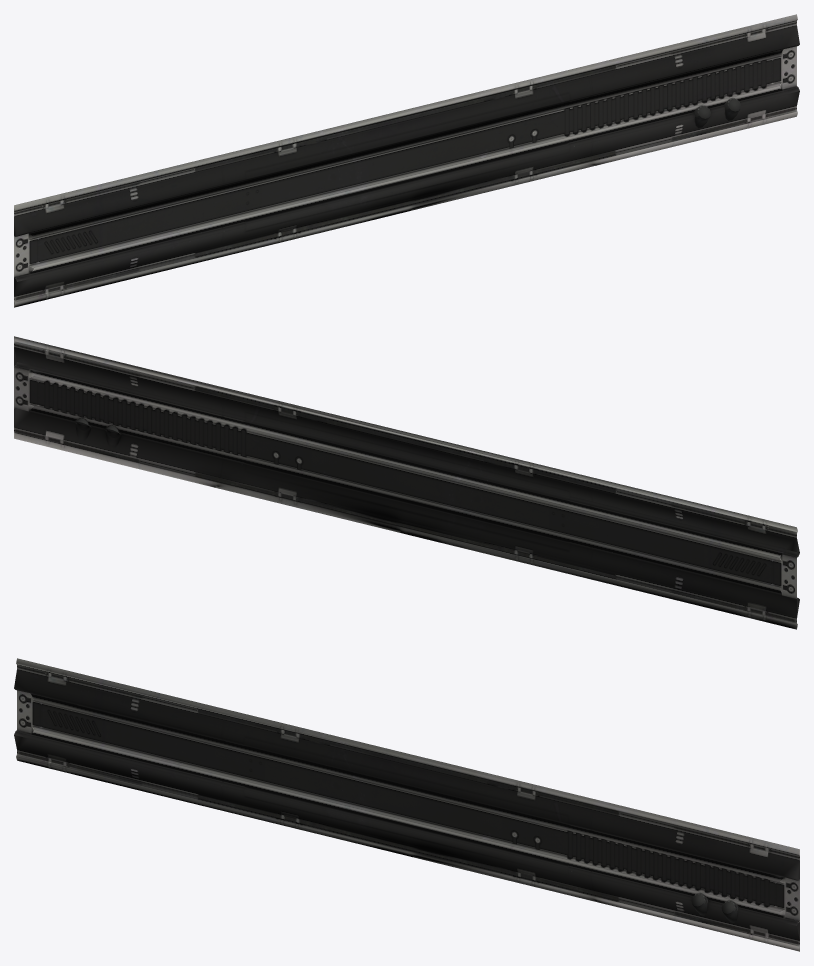
File: Panel_B_05x4_2_L2.FBX
3 renders of one model, top to bottom at view 1: azimuth 30°, elevation 25°; view 2: azimuth 150°, elevation 25°; view 3: azimuth 330°, elevation 25°, orthographic.
Parts seen in each view (by area): view 1: Panel_B_05x4_2_L2; view 2: Panel_B_05x4_2_L2; view 3: Panel_B_05x4_2_L2.
Boxes of the visible parts, left/top/right/bottom form: Panel_B_05x4_2_L2: left=14, top=14, right=799, bottom=307; Panel_B_05x4_2_L2: left=14, top=336, right=799, bottom=629; Panel_B_05x4_2_L2: left=14, top=658, right=799, bottom=951.
Bounding box in the file's own units: 400 × 50 × 6.72.
